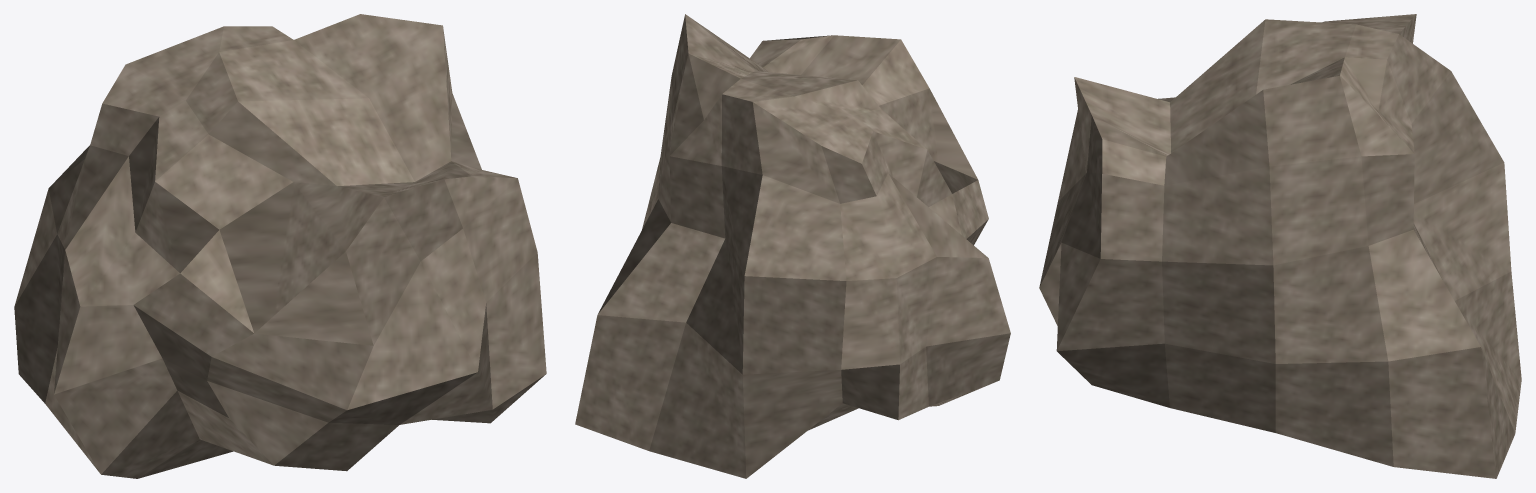
Rendered from Mineral_Prata.fbx.
The picture shows the model from 3 angles, left to right: view 1: azimuth 30°, elevation 25°; view 2: azimuth 150°, elevation 25°; view 3: azimuth 270°, elevation 25°; orthographic projection. The views are drawn at different scales.
Visible parts, largest first — view 1: Minerais; view 2: Minerais; view 3: Minerais.
Part boxes in pixels (x1,y1,x2,y2): Minerais: (14,14,546,478); Minerais: (575,14,1010,478); Minerais: (1039,14,1521,478).
Bounding box in the file's own units: 20.14 × 18.73 × 21.15.
1 material, 1 textured.
